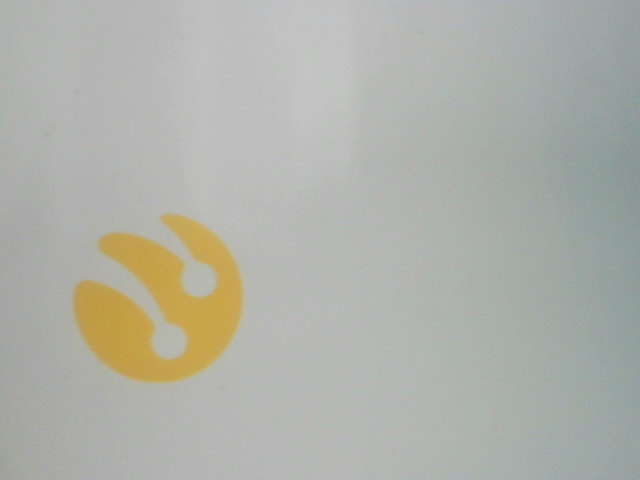AV_H3600Yellow: (54, 209, 257, 385)
